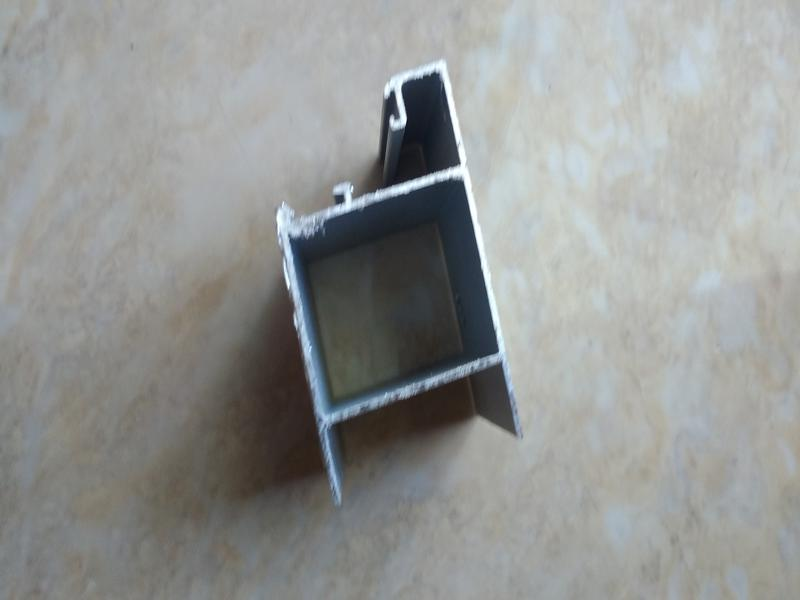Aluminium_2: (205, 42, 565, 505)
